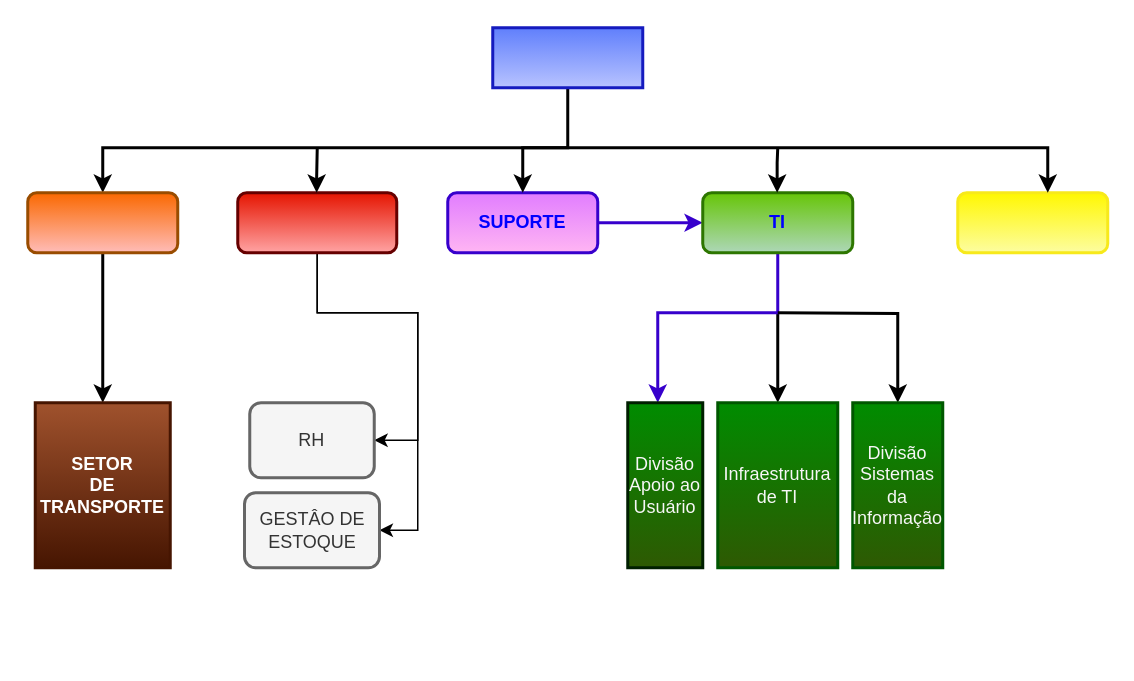
Image size: 1134x681. Some labels were removed from this diagram. The centre of each missing label's shape, as x and y in pixels:
ADMINISTRAÇÃO: the point at 317,222
EXECUTIVO: the point at 567,57
MARKETING: the point at 1032,222
VENDAS: the point at 102,222
